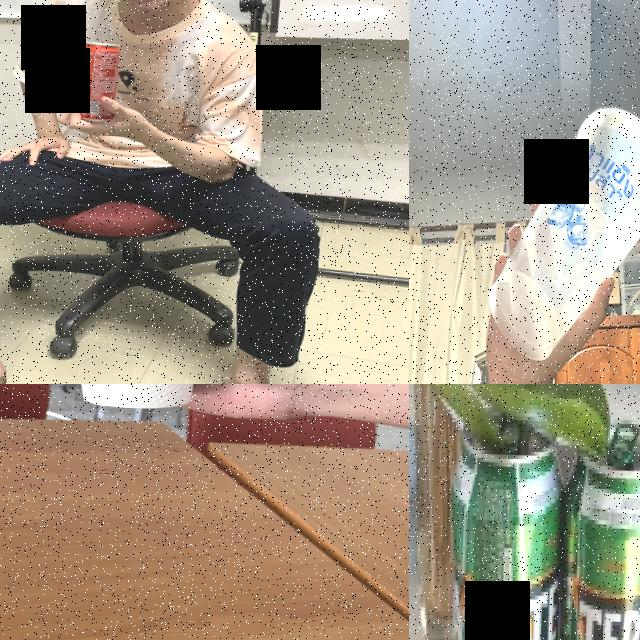can: (439, 418, 567, 640), (550, 417, 640, 640), (72, 38, 121, 125)
cup: (486, 99, 640, 365)
